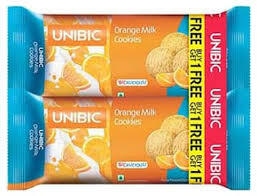VEG: (117, 174, 125, 181), (117, 92, 124, 97)
